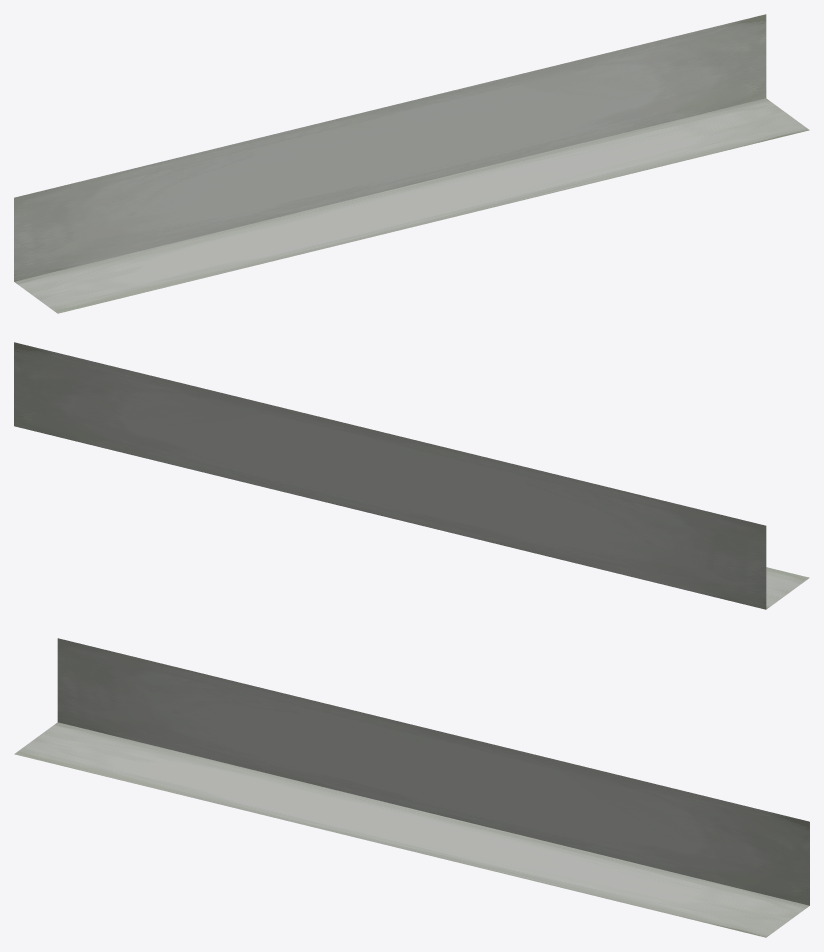
File: greda.fbx
3 views of the same model, one above another, from view 1: azimuth 30°, elevation 25°; view 2: azimuth 150°, elevation 25°; view 3: azimuth 330°, elevation 25° (orthographic).
Visible parts, largest first — view 1: greda; view 2: greda; view 3: greda.
Boxes of the visible parts, x1=… form: greda: x1=14, y1=14, x2=809, y2=313; greda: x1=14, y1=342, x2=809, y2=609; greda: x1=14, y1=638, x2=809, y2=937.
Size of the model in its own units: 4.4 by 0.4434 by 0.4698.
Materials: 1 (1 with a texture image).
